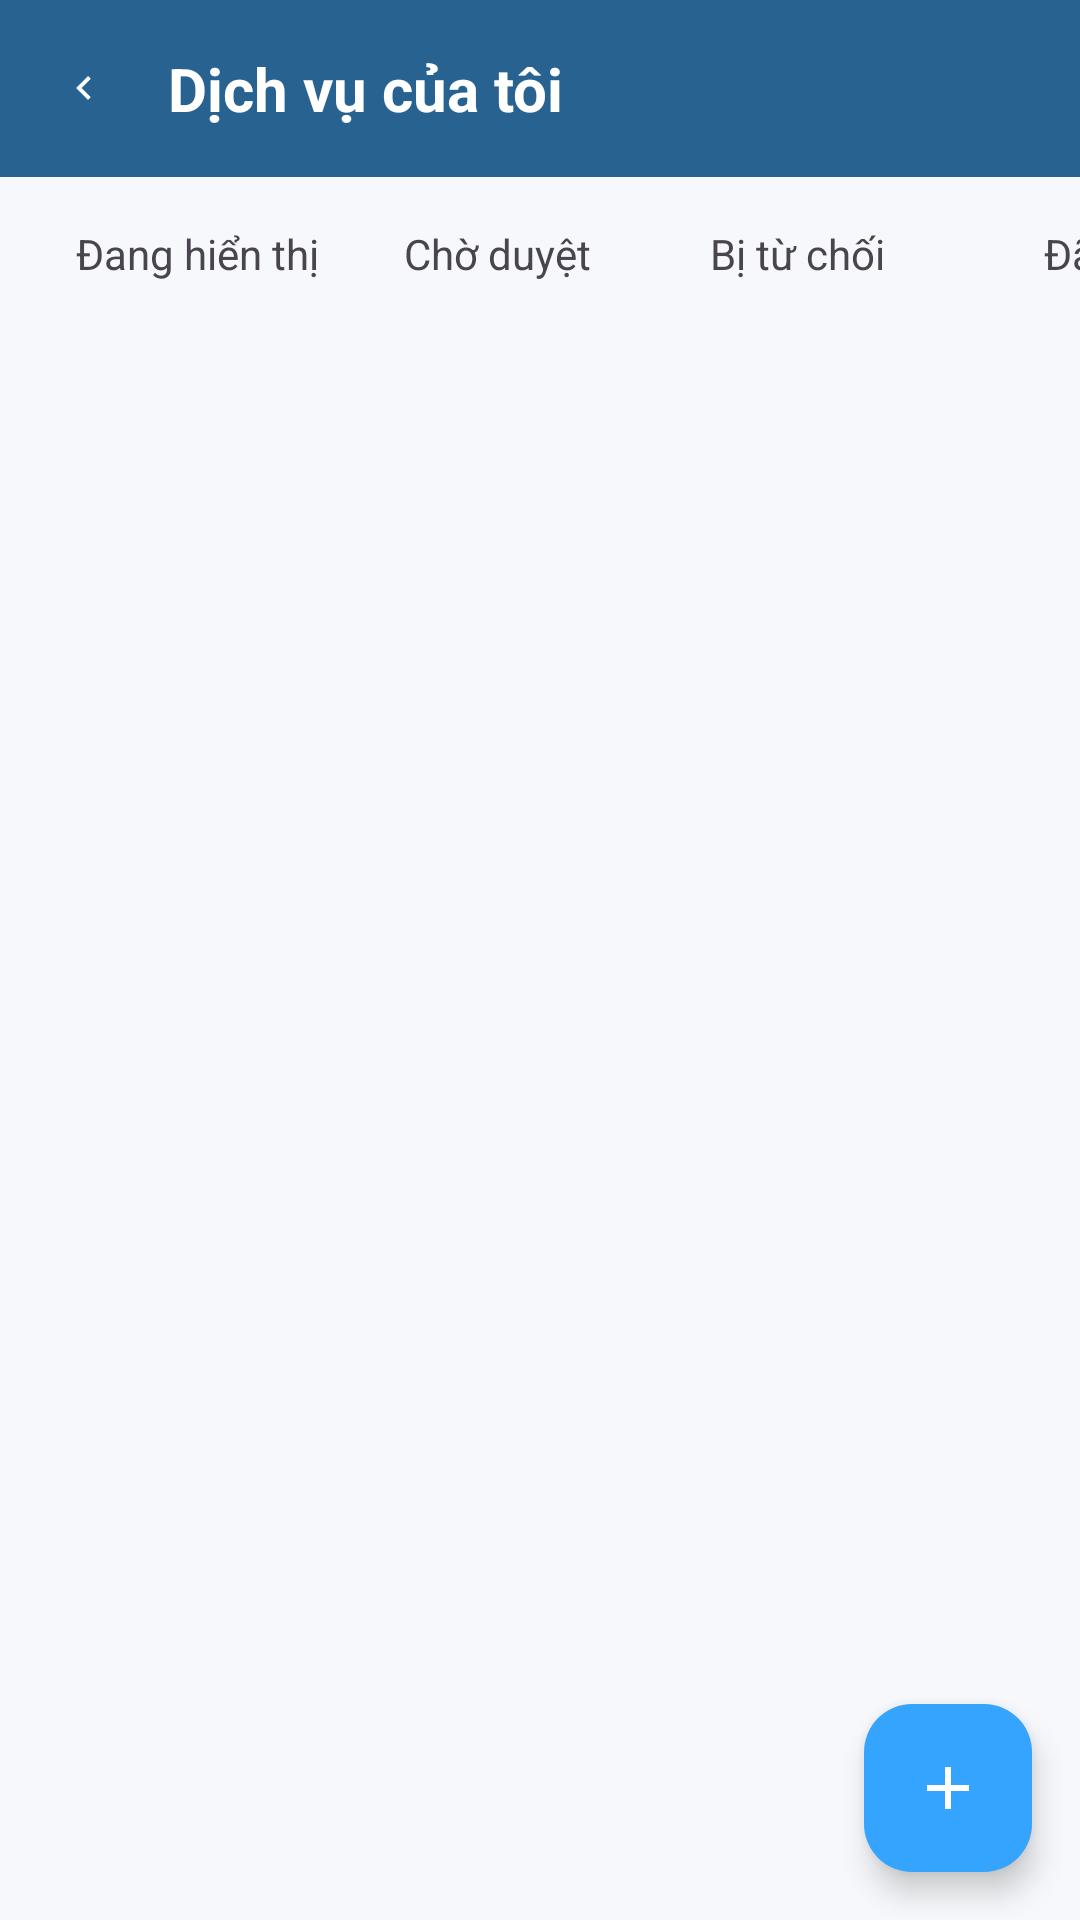

Icons on this 1080x1920 Android screen, each with its box as (x1, y1, x2, y2):
Thêm dịch vụ mới: (864, 1704, 1032, 1872)
